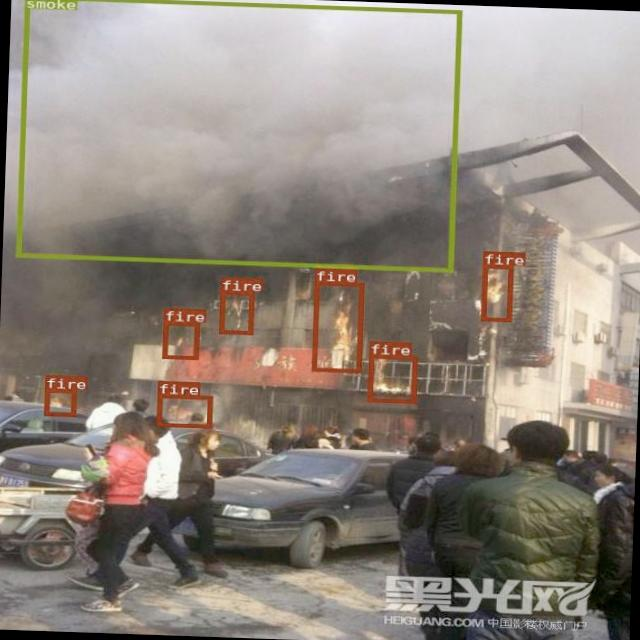fire: (310, 280, 363, 372), (366, 353, 416, 402), (156, 393, 212, 428), (480, 263, 512, 321), (218, 289, 252, 334), (162, 321, 198, 358), (42, 388, 76, 416)
smoke: (15, 0, 460, 271)
